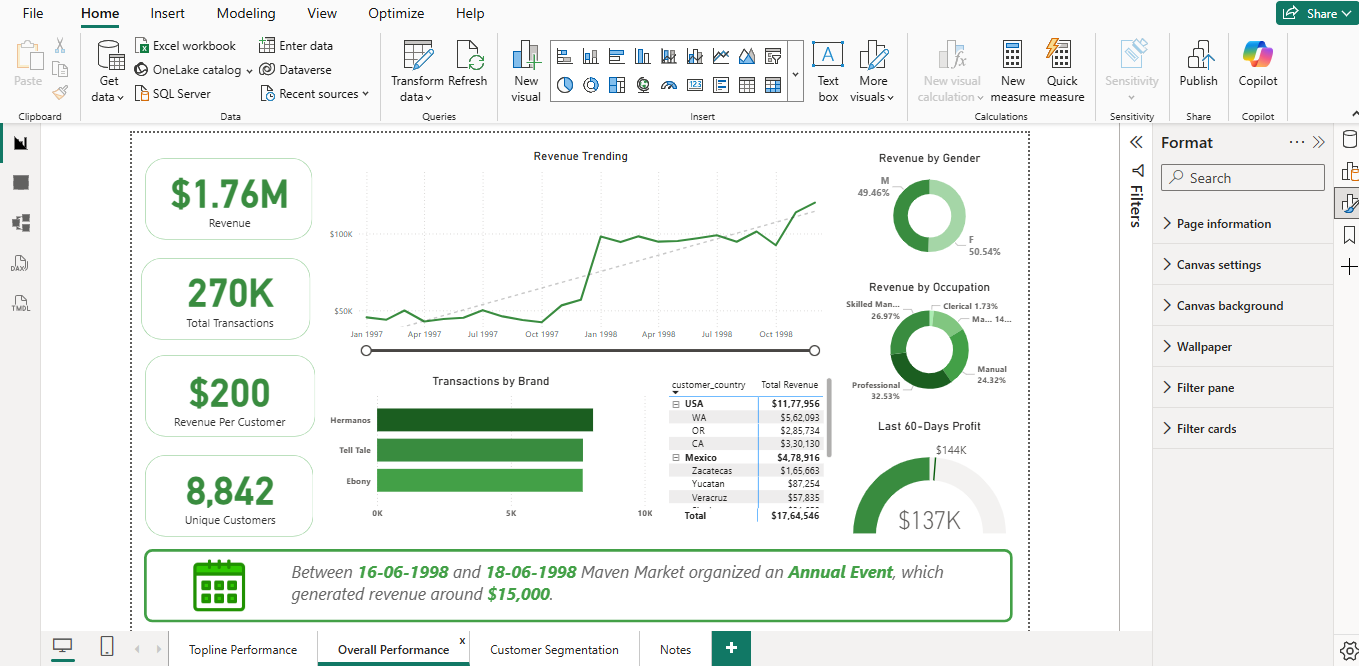

This screenshot's page, from the dashboard's own definition file:
{"tool":"powerbi","page":{"name":"Overall Performance ","canvas":[1280,720],"ordinal":1},"visuals":[{"type":"gauge","title":"Last 60-Days Profit","fields":{"Y":["Measures Table.60-Day Profit"],"TargetValue":["Measures Table.Profit Target(Last 60-Days)"]},"box":[1035.4,329.8,223.2,201.6],"z":0},{"type":"shape","box":[490,546,774.7,164.2],"z":0,"group":"g6"},{"type":"donutChart","title":"Revenue by Gender","fields":{"Y":["Measures Table.Total Revenue"],"Series":["Customers.gender"]},"box":[15.8,315.4,239,184.3],"z":1000},{"type":"textbox","box":[766.1,567.4,476.6,118.1],"z":1000,"group":"g6"},{"type":"donutChart","title":"Revenue by Occupation","fields":{"Y":["Measures Table.Total Revenue"],"Series":["Customers.occupation"]},"box":[15.8,518.4,239,184.3],"z":2000},{"type":"group","id":"g1","title":"Group 1","box":[1034,6.5,225.3,158.4],"z":3000},{"type":"group","id":"g2","title":"Group 1","box":[9.7,7.3,246.6,158.4],"z":4000},{"type":"shape","box":[1036.1,28.1,223.2,122.4],"z":4000,"group":"g1"},{"type":"shape","box":[17.3,34.1,239,116.6],"z":4000,"group":"g2"},{"type":"shape","box":[15.6,170.6,239,116.6],"z":4000,"group":"g3"},{"type":"shape","box":[516.9,567.4,239,116.6],"z":4000,"group":"g4"},{"type":"card","fields":{"Values":["Measures Table.Total Customers"]},"box":[1034,6.5,224.6,158.4],"z":5000,"group":"g1"},{"type":"card","fields":{"Values":["Measures Table.Total Revenue"]},"box":[9.7,7.3,244.8,158.4],"z":5000,"group":"g2"},{"type":"group","id":"g3","title":"Group 1","box":[10.1,149.8,244.8,152.6],"z":5000},{"type":"card","fields":{"Values":["Measures Table.Total Transactions"]},"box":[10.1,149.8,244.8,152.6],"z":5000,"group":"g3"},{"type":"shape","box":[1035.3,180.1,223.2,116.6],"z":5000,"group":"g5"},{"type":"group","id":"g4","title":"Group 2","box":[516.9,567.4,239,118.1],"z":5000,"group":"g6"},{"type":"card","fields":{"Values":["Measures Table.Specific Revenue"]},"box":[517.9,567.7,231.8,118.1],"z":5000,"group":"g4"},{"type":"group","id":"g5","title":"Group 3","box":[1033.9,158.4,224.6,157],"z":6000},{"type":"lineChart","title":"Revenue Trending","fields":{"Y":["Measures Table.Total Revenue"],"Category":["Calendar.Start of Month"]},"box":[277.9,23,727.2,269.3],"z":7000},{"type":"card","fields":{"Values":["Measures Table.Revenue Per Customer"]},"box":[1033.9,158.4,224.6,157],"z":7500,"group":"g5"},{"type":"pivotTable","fields":{"Rows":["Customers.customer_country","Customers.customer_state_province"],"Values":["Measures Table.Total Revenue"]},"box":[761.8,315.4,243.4,203],"z":8000},{"type":"barChart","title":"Transactions by Brand","fields":{"Y":["Measures Table.Total Transactions"],"Category":["Products.product_brand"]},"box":[277.9,315.4,470.9,203],"z":9000},{"type":"slicer","fields":{"Values":["Customers.customer_country"]},"box":[299.5,531.4,174.2,171.4],"z":10000},{"type":"group","id":"g6","title":"Group 4","box":[490,546,774.7,164.2],"z":11000}]}

Visuals, with their boxes on the page's 1280x720 design canvas (x1, y1, x2, y2). These are canvas units, not pixel positions in the 1359x666 screenshot, which may show the page scaled, cropped or inside an application window:
"Last 60-Days Profit" gauge: bbox=(1035, 330, 1259, 531)
shape: bbox=(490, 546, 1265, 710)
"Revenue by Gender" donutChart: bbox=(16, 315, 255, 500)
textbox: bbox=(766, 567, 1243, 686)
"Revenue by Occupation" donutChart: bbox=(16, 518, 255, 703)
"Group 1" group: bbox=(1034, 6, 1259, 165)
"Group 1" group: bbox=(10, 7, 256, 166)
shape: bbox=(1036, 28, 1259, 150)
shape: bbox=(17, 34, 256, 151)
shape: bbox=(16, 171, 255, 287)
shape: bbox=(517, 567, 756, 684)
card - Measures Table.Total Customers: bbox=(1034, 6, 1259, 165)
card - Measures Table.Total Revenue: bbox=(10, 7, 254, 166)
"Group 1" group: bbox=(10, 150, 255, 302)
card - Measures Table.Total Transactions: bbox=(10, 150, 255, 302)
shape: bbox=(1035, 180, 1258, 297)
"Group 2" group: bbox=(517, 567, 756, 686)
card - Measures Table.Specific Revenue: bbox=(518, 568, 750, 686)
"Group 3" group: bbox=(1034, 158, 1258, 315)
"Revenue Trending" lineChart: bbox=(278, 23, 1005, 292)
card - Measures Table.Revenue Per Customer: bbox=(1034, 158, 1258, 315)
pivotTable - Customers.customer_country x Customers.customer_state_province: bbox=(762, 315, 1005, 518)
"Transactions by Brand" barChart: bbox=(278, 315, 749, 518)
slicer - Customers.customer_country: bbox=(300, 531, 474, 703)
"Group 4" group: bbox=(490, 546, 1265, 710)
